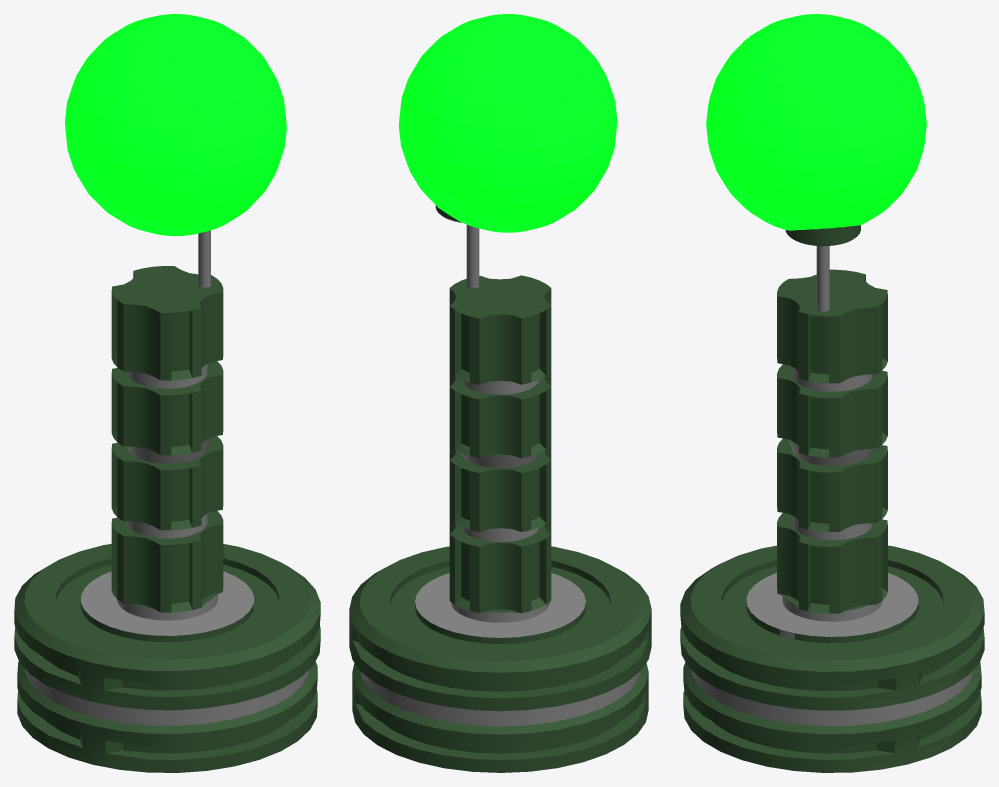
Rendered from stbMarker.glb.
3 views of the same model, side by side, from view 1: azimuth 30°, elevation 25°; view 2: azimuth 150°, elevation 25°; view 3: azimuth 270°, elevation 25° (orthographic).
Parts seen in each view (by area): view 1: Cylinder.001, SG light; view 2: Cylinder.001, SG light; view 3: Cylinder.001, SG light.
Part boxes in pixels (x1=…): Cylinder.001: x1=14, y1=230, x2=320, y2=772; SG light: x1=65, y1=14, x2=286, y2=236; Cylinder.001: x1=349, y1=205, x2=651, y2=772; SG light: x1=399, y1=14, x2=617, y2=232; Cylinder.001: x1=680, y1=225, x2=984, y2=772; SG light: x1=706, y1=14, x2=926, y2=230.
Size of the model in its own units: 2.66 by 6.61 by 2.66.
